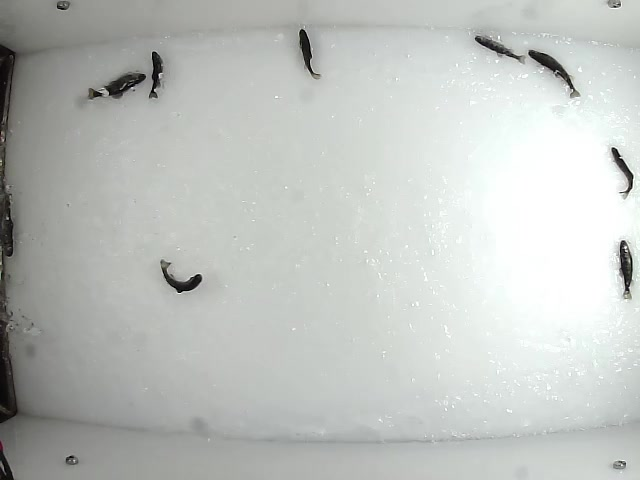fish: (525, 48, 583, 100), (84, 69, 148, 104), (473, 31, 528, 65), (160, 259, 204, 296), (608, 146, 636, 201), (297, 26, 324, 80), (616, 239, 637, 302), (146, 49, 167, 101)
